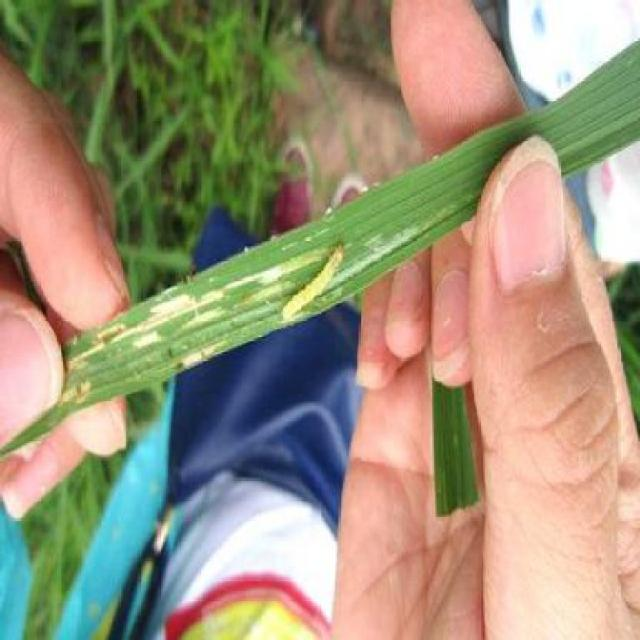leaf-folder: (282, 223, 352, 345)
